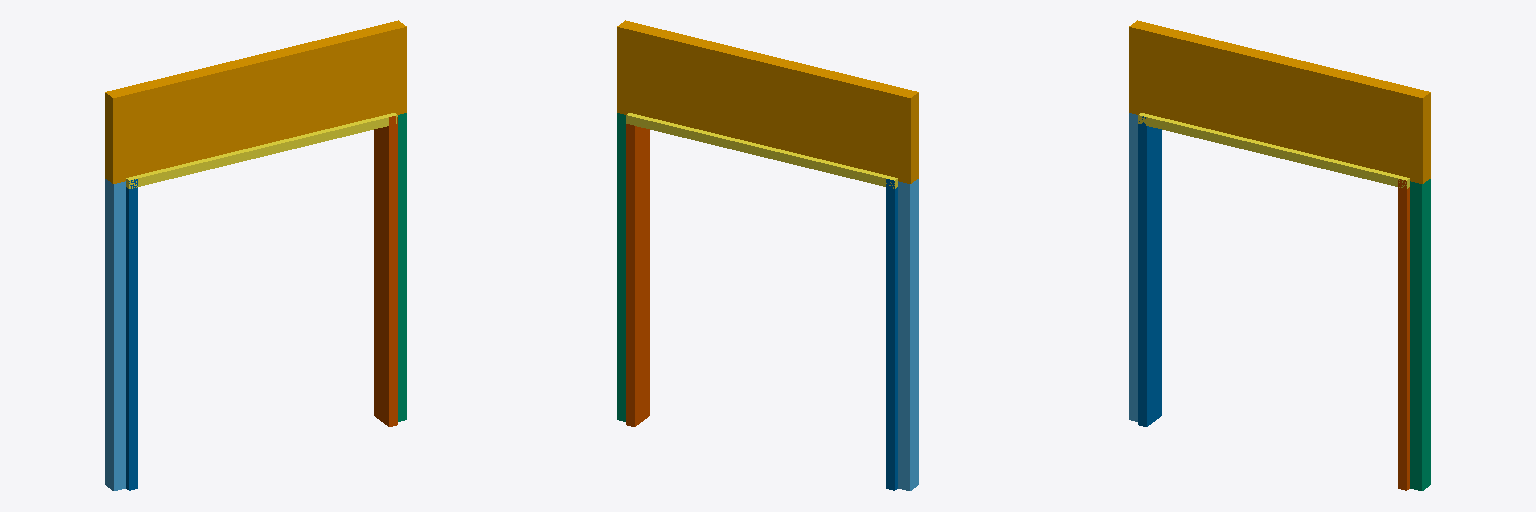
robot.urdf — wide_doorway:
<?xml version="1.0"?>
<robot name="wide_doorway">
  <link name="top">
    <inertial>
        <origin rpy="0 0 0" xyz="0 0 0"/>
        <mass value="0"/>
        <inertia ixx="4.4e-5" ixy="0" ixz="0" iyy="0" iyz="0" izz="4.4e-5"/>
    </inertial>
    <visual>
      <geometry>
        <mesh filename="top.obj"/>
      </geometry>
    </visual>
    <collision>
      <geometry>
        <mesh filename="top.obj"/>
      </geometry>
      <surface>
           <bounce restitution_coefficient = "0.1"/>
      </surface>
    </collision>
  </link>
  <link name="side_1">
    <inertial>
        <origin rpy="0 0 0" xyz="0 0 0"/>
        <mass value="0"/>
        <inertia ixx="4.4e-5" ixy="0" ixz="0" iyy="0" iyz="0" izz="4.4e-5"/>
    </inertial>
    <visual>
      <geometry>
        <mesh filename="side.obj"/>
      </geometry>
    </visual>
    <collision>
      <geometry>
        <mesh filename="side.obj"/>
      </geometry>
      <surface>
           <bounce restitution_coefficient = "0.1"/>
      </surface>
    </collision>
  </link>
  <link name="side_2">
    <inertial>
        <origin rpy="0 0 0" xyz="0 0 0"/>
        <mass value="1.0"/>
        <inertia ixx="4.4e-5" ixy="0" ixz="0" iyy="0" iyz="0" izz="4.4e-5"/>
    </inertial>
    <visual>
      <geometry>
        <mesh filename="side.obj"/>
      </geometry>
    </visual>
    <collision>
      <geometry>
        <mesh filename="side.obj"/>
      </geometry>
      <surface>
           <bounce restitution_coefficient = "0.1"/>
      </surface>
    </collision>
  </link>
  <link name="frame_top">
    <inertial>
        <origin rpy="0 0 0" xyz="0 0 0"/>
        <mass value="0"/>
        <inertia ixx="4.4e-5" ixy="0" ixz="0" iyy="0" iyz="0" izz="4.4e-5"/>
    </inertial>
    <visual>
      <geometry>
        <mesh filename="frame_top.obj"/>
      </geometry>
    </visual>
    <collision>
      <geometry>
        <mesh filename="frame_top.obj"/>
      </geometry>
      <surface>
           <bounce restitution_coefficient = "0.1"/>
      </surface>
    </collision>
  </link>
  <link name="frame_side_1">
    <inertial>
        <origin rpy="0 0 0" xyz="0 0 0"/>
        <mass value="0"/>
        <inertia ixx="4.4e-5" ixy="0" ixz="0" iyy="0" iyz="0" izz="4.4e-5"/>
    </inertial>
    <visual>
      <geometry>
        <mesh filename="frame_side.obj"/>
      </geometry>
    </visual>
    <collision>
      <geometry>
        <mesh filename="frame_side.obj"/>
      </geometry>
      <surface>
           <bounce restitution_coefficient = "0.1"/>
      </surface>
    </collision>
  </link>
  <link name="frame_side_2">
    <inertial>
        <origin rpy="0 0 0" xyz="0 0 0"/>
        <mass value="0"/>
        <inertia ixx="4.4e-5" ixy="0" ixz="0" iyy="0" iyz="0" izz="4.4e-5"/>
    </inertial>
    <visual>
      <geometry>
        <mesh filename="frame_side.obj"/>
      </geometry>
    </visual>
    <collision>
      <geometry>
        <mesh filename="frame_side.obj"/>
      </geometry>
      <surface>
           <bounce restitution_coefficient = "0.1"/>
      </surface>
    </collision>
  </link>
  <joint name="top_to_side_1" type="fixed">
    <parent link="top"/>
    <child link="side_1"/>
    <origin rpy="0 0 0" xyz="-0.466 0 -0.64"/>
  </joint>
  <joint name="top_to_side_2" type="fixed">
    <parent link="top"/>
    <child link="side_2"/>
    <origin rpy="0 0 0" xyz="0.466 0 -0.64"/>
  </joint>
  <joint name="top_to_frame_top" type="fixed">
    <parent link="top"/>
    <child link="frame_top"/>
    <origin rpy="0 0 0" xyz="0 0 -0.144"/>
  </joint>
  <joint name="top_to_frame_side_1" type="fixed">
    <parent link="top"/>
    <child link="frame_side_1"/>
    <origin rpy="0 0 0" xyz="-0.443 0 -0.635"/>
  </joint>
  <joint name="top_to_frame_side_2" type="fixed">
    <parent link="top"/>
    <child link="frame_side_2"/>
    <origin rpy="0 0 0" xyz="0.443 0 -0.635"/>
  </joint>
</robot>

--- Facts derived from the render (not from the file) ---
3 views of the same robot in one strip: view 1: azimuth 30°, elevation 25°; view 2: azimuth 150°, elevation 25°; view 3: azimuth 330°, elevation 25° (orthographic).
Model wide_doorway with 6 links and 5 joints (5 fixed), rooted at top, posed every joint at zero.
Links seen in each view (by area): view 1: top, frame_side_2, side_1, frame_side_1, frame_top, side_2; view 2: top, frame_side_2, side_1, frame_side_1, frame_top, side_2; view 3: top, frame_side_1, side_2, frame_side_2, frame_top, side_1.
Link boxes in pixels (left/top/right/bottom): top: left=105, top=20, right=406, bottom=183; frame_side_2: left=374, top=116, right=397, bottom=426; side_1: left=105, top=179, right=125, bottom=490; frame_side_1: left=126, top=179, right=137, bottom=490; frame_top: left=126, top=113, right=397, bottom=188; side_2: left=398, top=113, right=406, bottom=421; top: left=617, top=20, right=918, bottom=183; frame_side_2: left=626, top=124, right=649, bottom=426; side_1: left=898, top=179, right=918, bottom=490; frame_side_1: left=886, top=179, right=897, bottom=490; frame_top: left=626, top=113, right=897, bottom=188; side_2: left=617, top=113, right=625, bottom=421; top: left=1129, top=20, right=1430, bottom=183; frame_side_1: left=1138, top=116, right=1161, bottom=426; side_2: left=1410, top=179, right=1430, bottom=490; frame_side_2: left=1398, top=179, right=1409, bottom=490; frame_top: left=1138, top=113, right=1409, bottom=188; side_1: left=1129, top=113, right=1137, bottom=421.
Bounding box of the posed robot: 1 × 0.0891 × 1.28 m (x, y, z).
Meshes: 4 distinct files referenced, 6 mesh visuals loaded (4 OBJ).